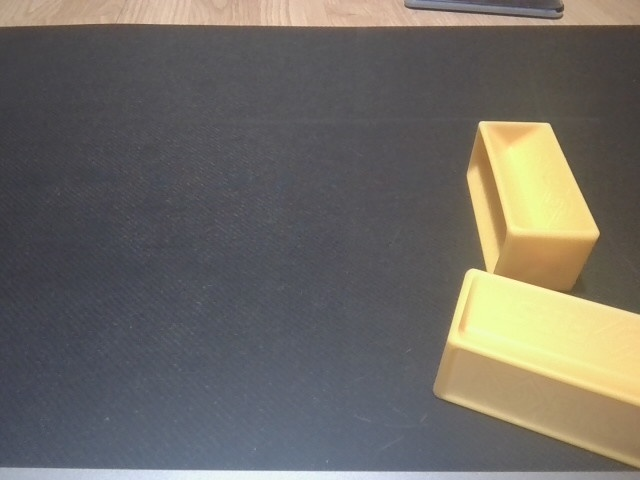YellowSample: (428, 265, 640, 471), (460, 117, 604, 297)
